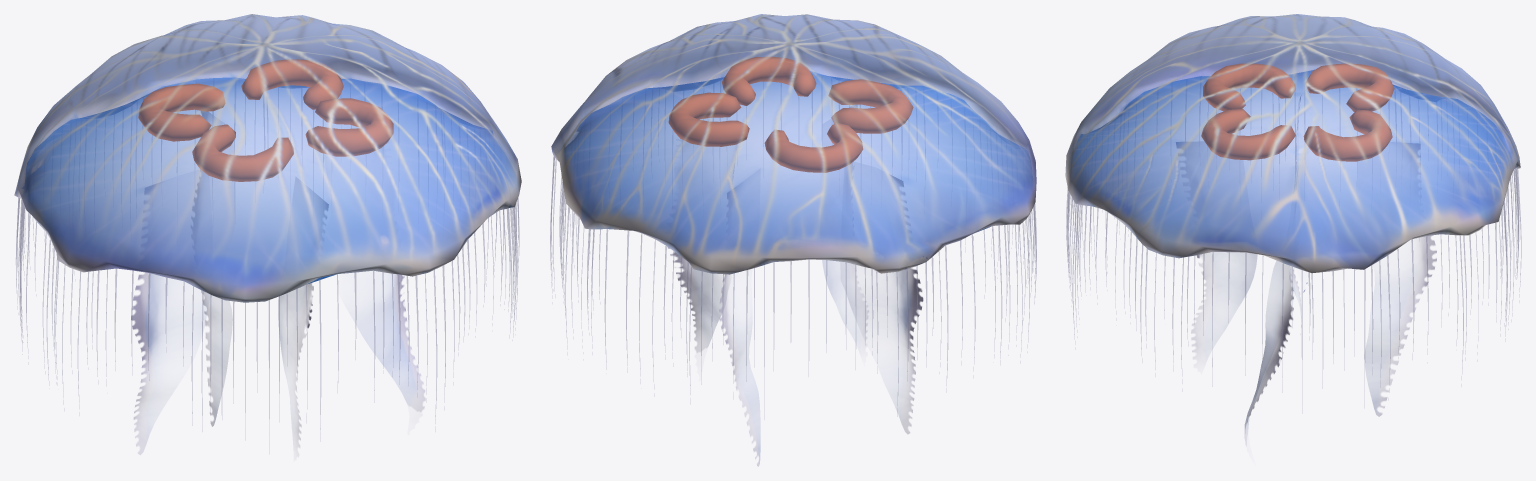
The model's file is moon_jellyfish.glb.
The picture shows the model from 3 angles, left to right: view 1: azimuth 30°, elevation 25°; view 2: azimuth 150°, elevation 25°; view 3: azimuth 270°, elevation 25°; orthographic projection. The views are drawn at different scales.
Parts seen in each view (by area): view 1: Jellyfish.gn_0; view 2: Jellyfish.gn_0; view 3: Jellyfish.gn_0.
Boxes of the visible parts, x1,y1,x2,y2 form: Jellyfish.gn_0: (14, 14, 521, 454); Jellyfish.gn_0: (550, 14, 1036, 466); Jellyfish.gn_0: (1065, 14, 1521, 445).
Size of the model in its own units: 1.99 by 1.74 by 1.9.
3 materials, 1 textured.
